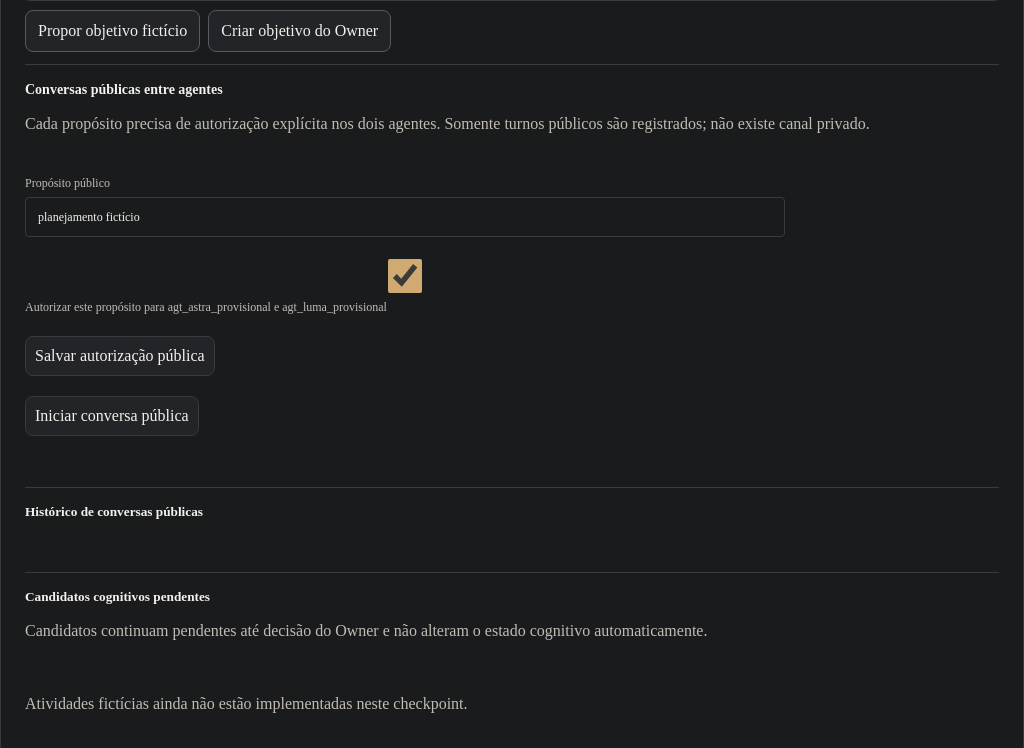
Test: CognitivePanel › renders safe Portuguese copy for a public conversation backend error
The width and height of the screenshot is (1024, 748).
(page scrolled)
Click the button "Iniciar conversa pública" at [112, 416], box [25,396,199,436]
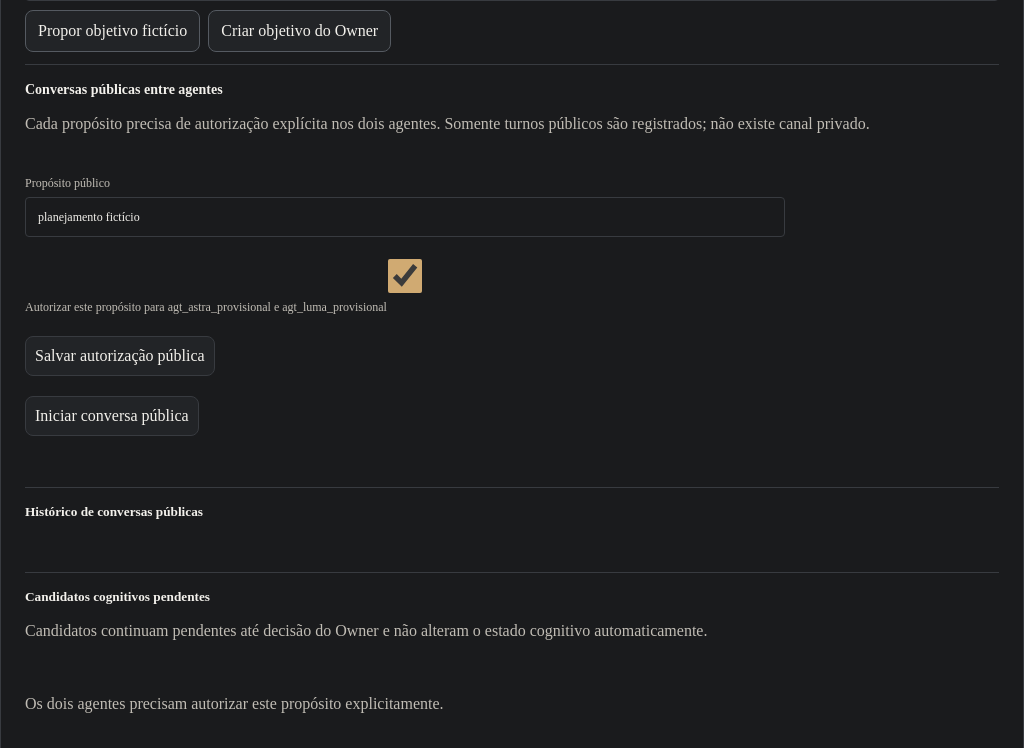
Now the text "Os dois agentes precisam autorizar este propósito explicitamente." is shown, box [25,695,444,712]
